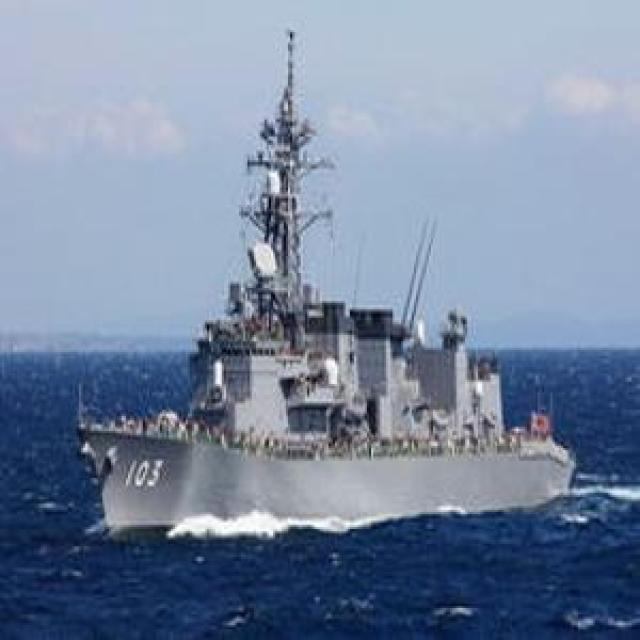navalvessels: (62, 94, 578, 538)
